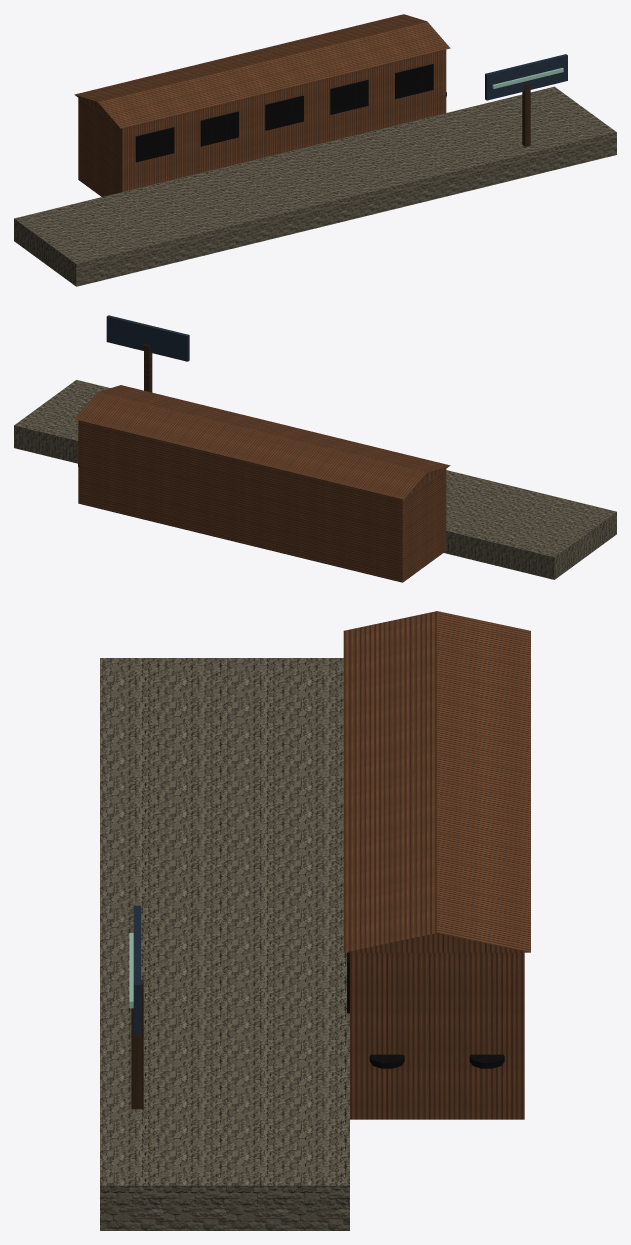
File: skyport_station_01.glb
3 renders of one model, top to bottom at view 1: azimuth 30°, elevation 25°; view 2: azimuth 150°, elevation 25°; view 3: azimuth 270°, elevation 25°, orthographic. The views are drawn at different scales.
Visible parts, largest first — view 1: skyport_station_01; view 2: skyport_station_01; view 3: skyport_station_01.
Part boxes in pixels (x1,y1,x2,y2): skyport_station_01: (14, 14, 616, 286); skyport_station_01: (14, 315, 616, 582); skyport_station_01: (100, 611, 530, 1230).
Size of the model in its own units: 20 by 3.65 by 6.9.
Materials: 6 (6 with a texture image).
